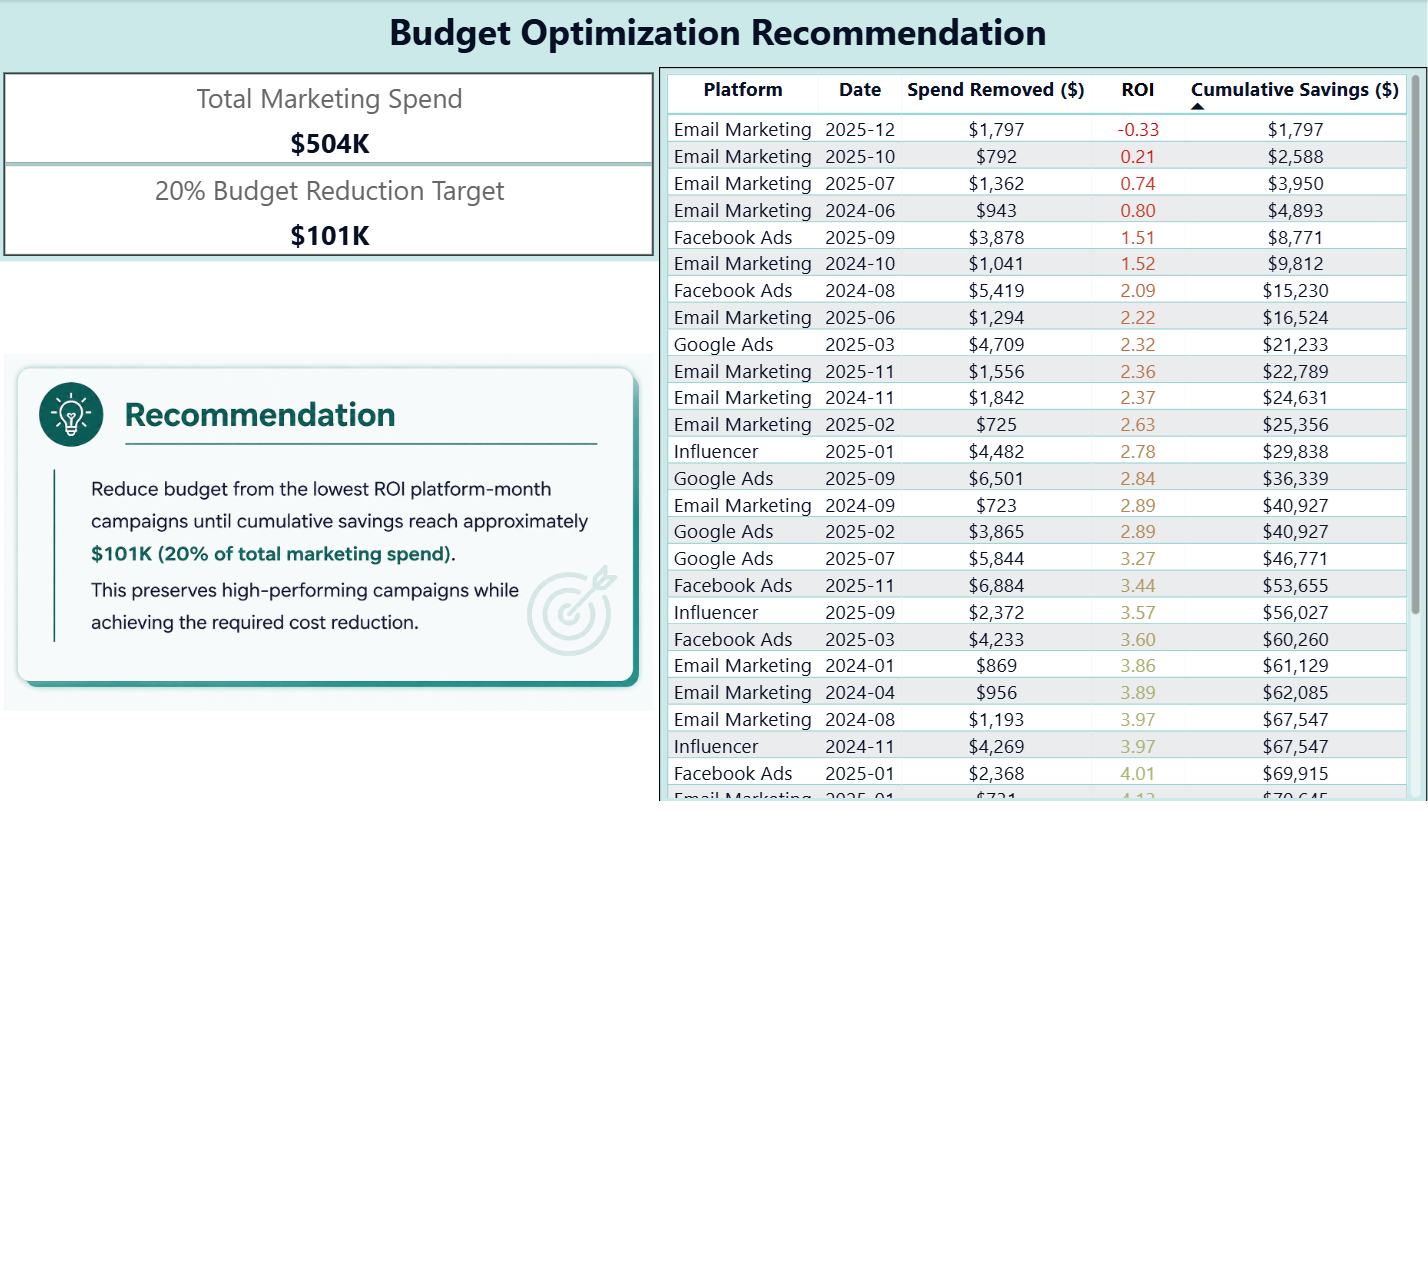

What the dashboard file says about the page in this screenshot:
{"tool":"powerbi","page":{"name":"Budget Optimization","canvas":[1280,720],"ordinal":4},"visuals":[{"type":"textbox","box":[0,0,1280,59.7],"z":0},{"type":"cardVisual","fields":{"Data":["e_commerce vw_campaign_roi.Total Marketing Spend","e_commerce vw_campaign_roi.Target Budget Cut"]},"box":[0,59.6,592.2,174.2],"z":1},{"type":"tableEx","fields":{"Values":["e_commerce vw_campaign_roi.platform","e_commerce vw_campaign_roi.month","Sum(e_commerce vw_campaign_roi.spend)","Sum(e_commerce vw_campaign_roi.roi)","Sum(e_commerce vw_campaign_roi.cumulative_cut_budget)"]},"box":[591.9,60,687.8,660],"z":2},{"type":"image","box":[0,233.7,592.2,485.5],"z":3}]}

Visuals, with their boxes on the page's 1280x720 design canvas (x1, y1, x2, y2). These are canvas units, not pixel positions in the 1428x1262 screenshot, which may show the page scaled, cropped or inside an application window:
textbox: [left=0, top=0, right=1280, bottom=60]
cardVisual - e_commerce vw_campaign_roi.Total Marketing Spend x e_commerce vw_campaign_roi.Target Budget Cut: [left=0, top=60, right=592, bottom=234]
tableEx - e_commerce vw_campaign_roi.platform x e_commerce vw_campaign_roi.month: [left=592, top=60, right=1280, bottom=720]
image: [left=0, top=234, right=592, bottom=719]
